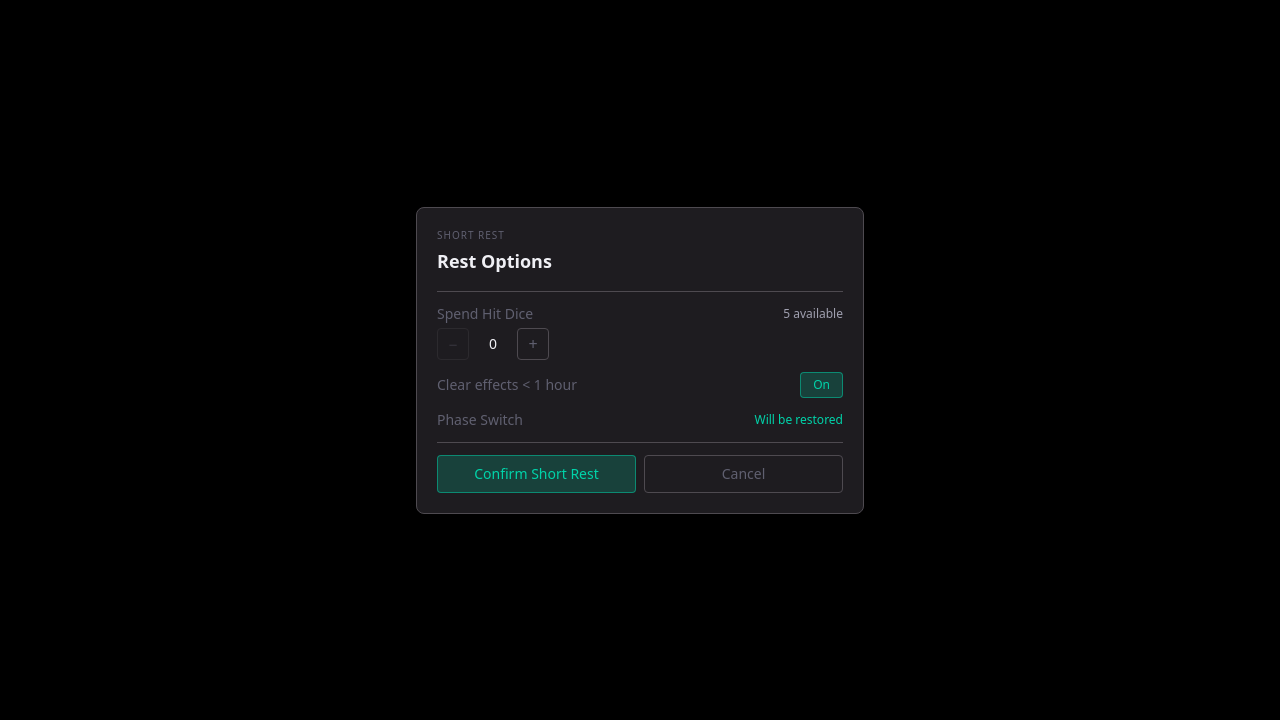
ShortRestDialog › shows completion summary after confirm
The width and height of the screenshot is (1280, 720).
// Spend 1 HD
Step 1. Click the button named "Increase hit dice" → (533, 344), box [517,328,549,360]
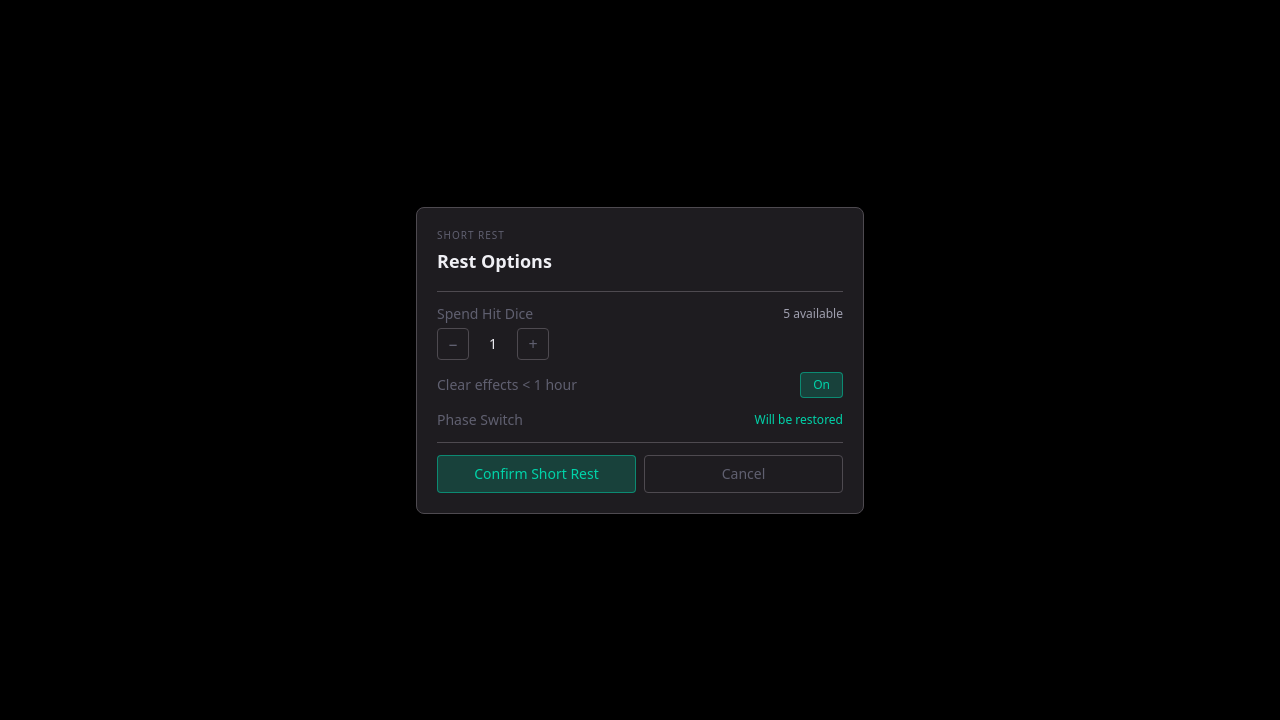
Step 2. Click the button "Confirm Short Rest" → (536, 474), box [437,454,636,492]
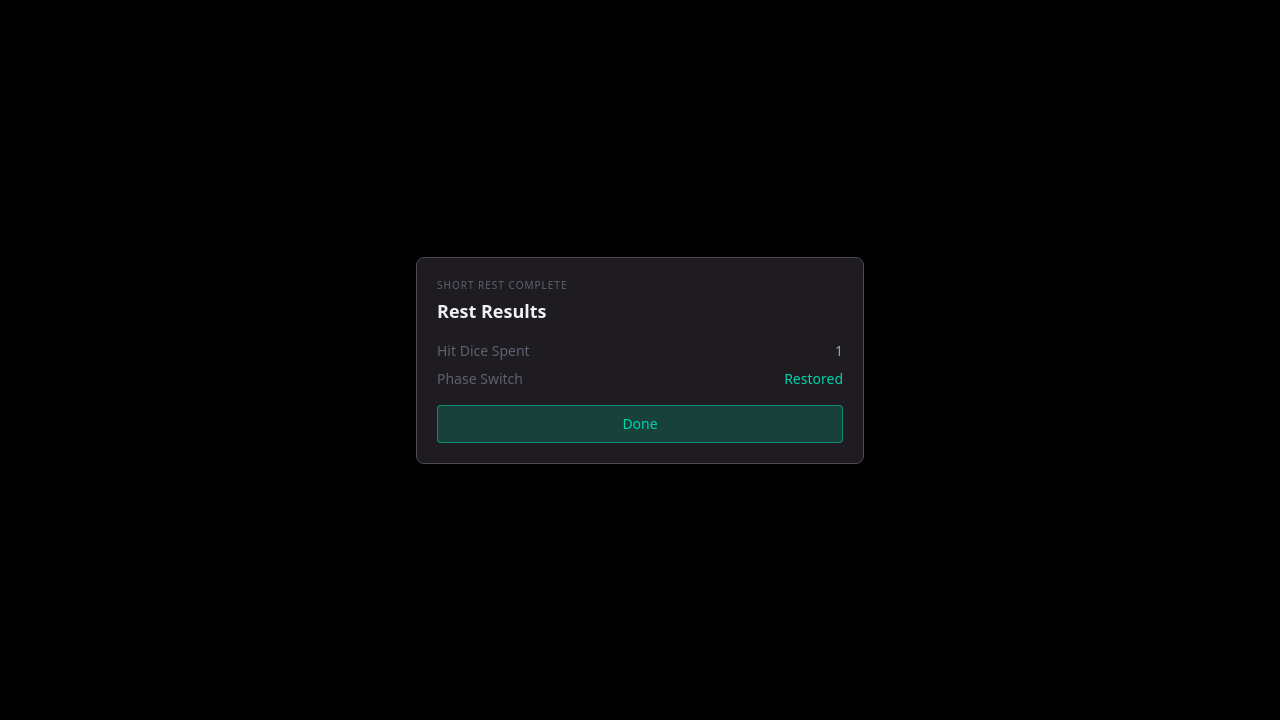
Now the text "Short Rest Complete" is shown, box [437,278,568,292]
Now the text "Rest Results" is shown, box [437,298,546,322]
Now the text "1" is shown, box [835,340,843,360]
